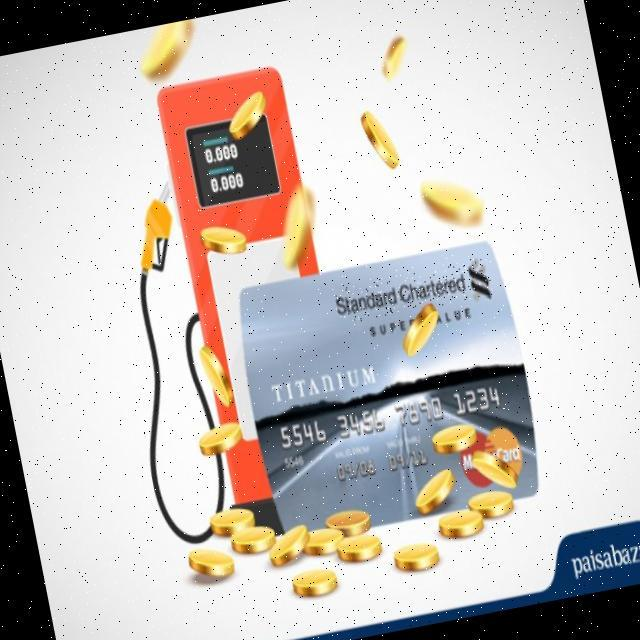Standard Chartered: (331, 256, 496, 326)
